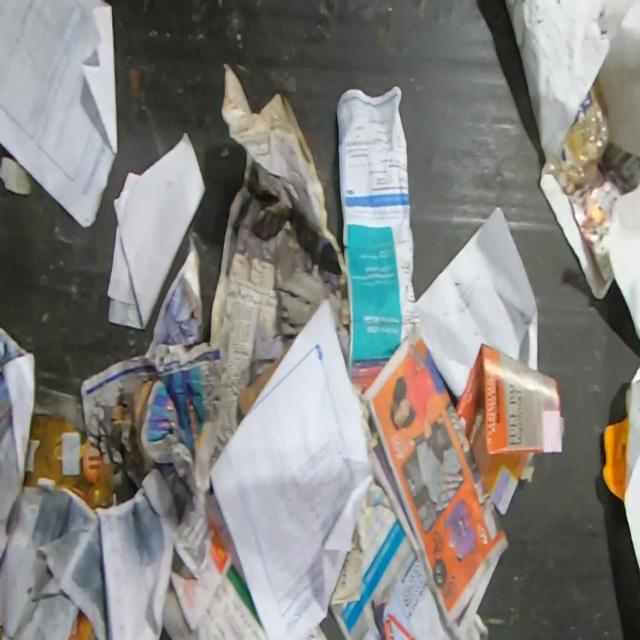cardboard: (238, 345, 292, 419)
soft_plastic: (22, 413, 117, 511), (68, 608, 98, 640)
